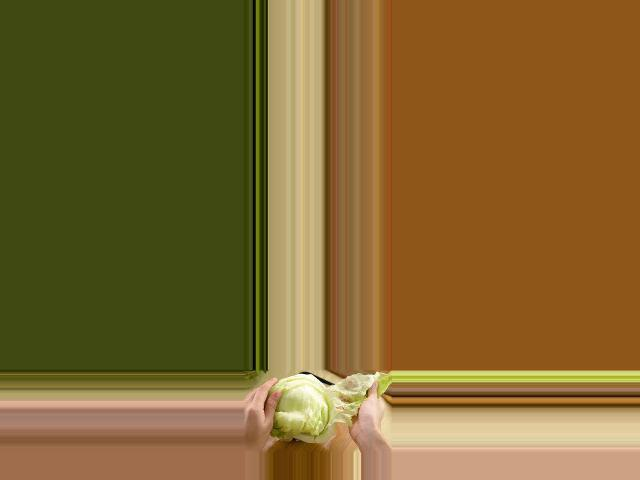lettuce: (264, 371, 350, 447)
